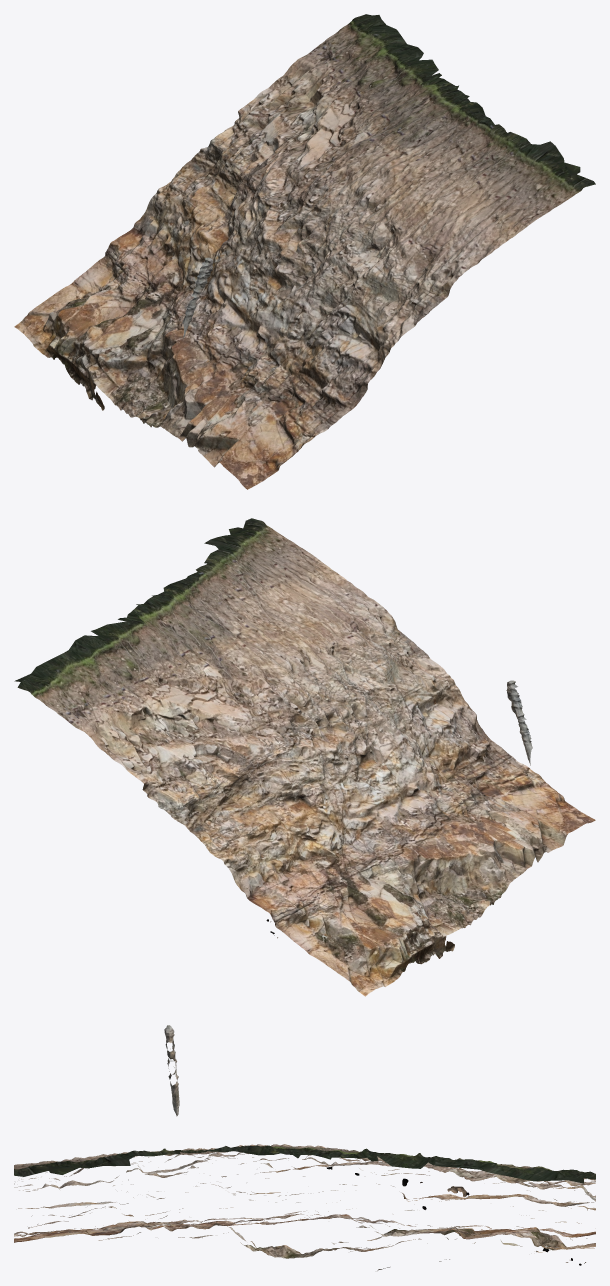
The picture shows the model from 3 angles, top to bottom: view 1: azimuth 30°, elevation 25°; view 2: azimuth 150°, elevation 25°; view 3: azimuth 270°, elevation 25°; orthographic projection. The views are drawn at different scales.
Bounding box in the file's own units: 9.01 × 6.13 × 10.11.
3 materials, 3 textured.
